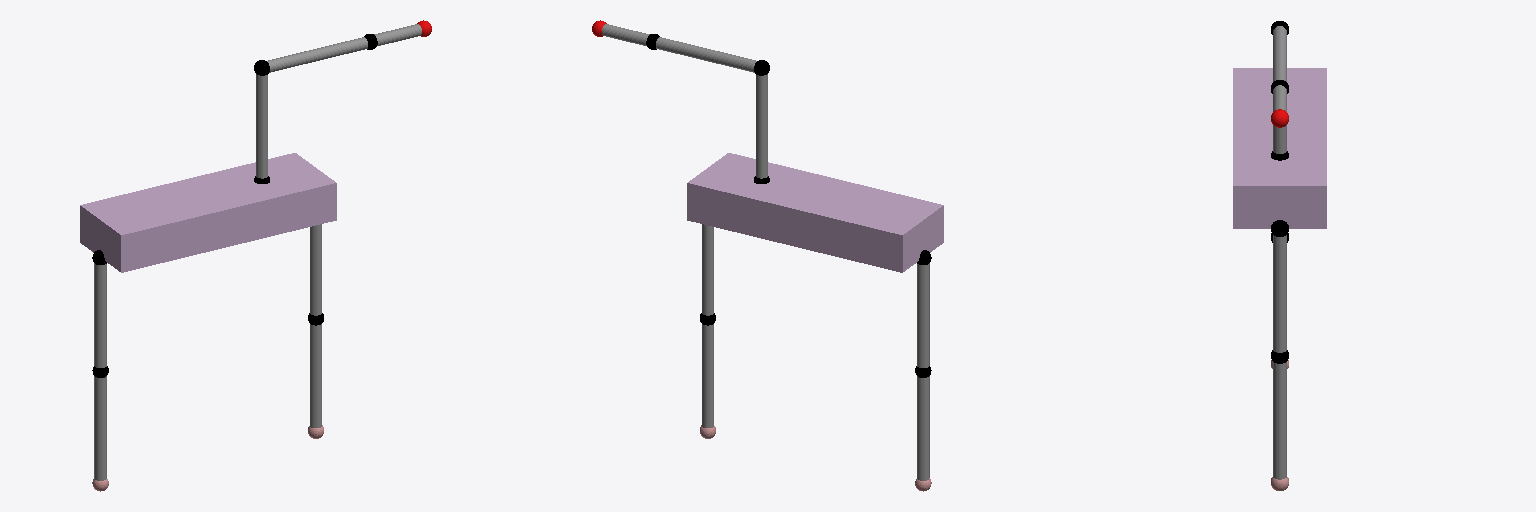
URDF robot description (SimpleANYmal):
<?xml version="1.0"?>

  <!-- ============================================================
       LeggedRobotModel
       
       Numerical parameters taken from:
       mparams = [
         9.81  0.1  0.6  0.3  0.3  0.15 0.3 0.3 0.3 0.3
         10.0  0.5  0.5  0.1  0.5  0.5 0.5 0.5
         0.02 0.02 0.015 0.015 0.015 0.02 0.015 0.015 0.2
       ]

       Coordinate system:
         X = forward/backward
         Y = joint axis / lateral direction
         Z = vertical

       All revolute joints:
         axis = Y = [0 1 0]
       ============================================================ -->
<robot name="SimpleANYmal">

  <link name="world"/>

  <!-- ============================================================
       BASE
       
       l_B = 0.60
       w_B = 0.20
       h_B = 0.10
       m_B = 10.0
       
       Cuboid inertia:
         Ixx = m/12 (w^2 + h^2)
         Iyy = m/12 (l^2 + h^2)
         Izz = m/12 (l^2 + w^2)
       ============================================================ -->
  <link name="base">

    <inertial>
      <origin xyz="0 0 0" rpy="0 0 0"/>
      <mass value="10.0"/>
      <inertia ixx="0.0416666667" ixy="0" ixz="0" iyy="0.3083333333" iyz="0" izz="0.3333333333"/>
    </inertial>

    <visual>
      <origin xyz="0 0 0" rpy="0 0 0"/>
      <geometry>
        <box size="0.60 0.20 0.10"/>
      </geometry>

      <material name="base_color">
        <color rgba="0.773 0.675 0.792 1.0"/>
      </material>
    </visual>

    <collision>
      <origin xyz="0 0 0" rpy="0 0 0"/>
      <geometry>
        <box size="0.60 0.20 0.10"/>
      </geometry>
    </collision>

  </link>


    <!--============================================================
        FLOATING BASE: X, Z TRANSLATION + Y ROTATION
        Represents:
          x_B
          z_B
          theta_B
        ============================================================ -->
    <!-- Intermediate links for floating base -->
    <link name="base_x_link"/>
    <link name="base_z_link"/>

    <!-- Translation along X -->
    <joint name="base_x_joint" type="prismatic">
        <parent link="world"/>
        <child link="base_x_link"/>
        <origin xyz="0 0 0" rpy="0 0 0"/>
        <axis xyz="1 0 0"/>
        <limit lower="-5.0" upper="5.0" effort="1000" velocity="5.0"/>
    </joint>

    <!-- Translation along Z -->
    <joint name="base_z_joint" type="prismatic">
        <parent link="base_x_link"/>
        <child link="base_z_link"/>
        <origin xyz="0 0 0" rpy="0 0 0"/>
        <axis xyz="0 0 1"/>
        <limit lower="-5.0" upper="5.0" effort="1000" velocity="5.0"/>
    </joint>

    <!-- Rotation around Y -->
    <joint name="base_pitch_joint" type="revolute">
        <parent link="base_z_link"/>
        <child link="base"/>
        <origin xyz="0 0 0" rpy="0 0 0"/>
        <axis xyz="0 1 0"/>
        <limit lower="-3.14159265" upper="3.14159265" effort="1000" velocity="10.0"/>
    </joint>

  <!-- ============================================================
       HIND / REAR THIGH
              
       l_RT = 0.30
       r_RT = 0.015
       m_RT = 0.50
       ============================================================ -->

  <link name="hind_thigh">

    <inertial>
      <origin xyz="0 0 -0.15" rpy="0 0 0"/>
      <mass value="0.50"/>
      <inertia ixx="0.00188203125" ixy="0" ixz="0" iyy="0.00188203125" iyz="0" izz="0.00005625"/>
    </inertial>

    <visual>
      <origin xyz="0 0 0.15" rpy="0 0 0"/>
      <geometry>
        <cylinder radius="0.015" length="0.30"/>
      </geometry>

      <material name="leg_color">
        <color rgba="0.60 0.60 0.60 1.0"/>
      </material>
    </visual>

    <visual>
        <origin xyz="0 0 0" rpy="0 0 0"/>
        <geometry>
            <sphere radius="0.02"/>
        </geometry>
        <material name="joint_color">
            <color rgba="0.0 0.0 0.0 1.0"/>
        </material>
    </visual>

    <collision>
      <origin xyz="0 0 0.15" rpy="0 0 0"/>
      <geometry>
        <cylinder radius="0.015" length="0.30"/>
      </geometry>
    </collision>

  </link>


  <joint name="hind_hip" type="revolute">

    <parent link="base"/>
    <child link="hind_thigh"/>
    <origin xyz="-0.30 0 -0.05" rpy="0 3.141592 0"/>
    <axis xyz="0 1 0"/>
    <limit effort="100" velocity="10" lower="-3.14159265" upper="3.14159265"/>

  </joint>

  <!-- ============================================================
       HIND / REAR SHANK
              
       l_RS = 0.30
       r_RS = 0.015
       m_RS = 0.50
       ============================================================ -->
  <link name="hind_shank">

    <inertial>
      <origin xyz="0 0 -0.15" rpy="0 0 0"/>
      <mass value="0.50"/>
      <inertia ixx="0.00188203125" ixy="0" ixz="0" iyy="0.00188203125" iyz="0" izz="0.00005625"/>
    </inertial>

    <visual>
      <origin xyz="0 0 0.15" rpy="0 0 0"/>
      <geometry>
        <cylinder radius="0.015" length="0.30"/>
      </geometry>

      <material name="leg_color"/>
    </visual>

    <visual>
        <origin xyz="0 0 0" rpy="0 0 0"/>
        <geometry>
            <sphere radius="0.02"/>
        </geometry>
        <material name="joint_color"/>
    </visual>

    <collision>
      <origin xyz="0 0 0.15" rpy="0 0 0"/>
      <geometry>
        <cylinder radius="0.015" length="0.30"/>
      </geometry>
    </collision>

  </link>


  <joint name="hind_knee" type="revolute">

    <parent link="hind_thigh"/>
    <child link="hind_shank"/>
    <origin xyz="0 0 0.30" rpy="0 0 0"/>
    <axis xyz="0 1 0"/>
    <limit effort="100" velocity="10" lower="-3.14159265" upper="3.14159265"/>

  </joint>


  <!-- ============================================================
       HIND FOOT
       
       r_RF = 0.020
       
       Foot is massless in original model because no mass
       parameter is provided for it.
       ============================================================ -->
  <link name="hind_foot">

    <inertial>
      <origin xyz="0 0 0" rpy="0 0 0"/>
      <mass value="0.000001"/>
      <inertia ixx="0.00000000016" ixy="0" ixz="0" iyy="0.00000000016" iyz="0" izz="0.00000000016"/>
    </inertial>

    <visual>
      <origin xyz="0 0 0" rpy="0 0 0"/>
      <geometry>
        <sphere radius="0.020"/>
      </geometry>

      <material name="foot_color">
        <color rgba="0.80 0.60 0.60 1.0"/>
      </material>
    </visual>

    <collision>
      <origin xyz="0 0 0" rpy="0 0 0"/>
      <geometry>
        <sphere radius="0.020"/>
      </geometry>
    </collision>

  </link>


  <joint name="hind_foot_joint" type="fixed">

    <parent link="hind_shank"/>
    <child link="hind_foot"/>
    <origin xyz="0 0 0.30" rpy="0 0 0"/>

  </joint>


  <!-- ============================================================
       FRONT THIGH
       
       l_FT = 0.30
       r_FT = 0.015
       m_FT = 0.50
       ============================================================ -->

  <link name="front_thigh">

    <inertial>
      <origin xyz="0 0 -0.15" rpy="0 0 0"/>
      <mass value="0.50"/>
      <inertia ixx="0.00188203125" ixy="0" ixz="0" iyy="0.00188203125" iyz="0" izz="0.00005625"/>
    </inertial>

    <visual>
      <origin xyz="0 0 0.15" rpy="0 0 0"/>
      <geometry>
        <cylinder radius="0.015" length="0.30"/>
      </geometry>
      <material name="leg_color"/>
    </visual>

    <visual>
        <origin xyz="0 0 0" rpy="0 0 0"/>
        <geometry>
            <sphere radius="0.02"/>
        </geometry>
        <material name="joint_color"/>
    </visual>

    <collision>
      <origin xyz="0 0 0.15" rpy="0 0 0"/>
      <geometry>
        <cylinder radius="0.015" length="0.30"/>
      </geometry>
    </collision>

  </link>


  <joint name="front_hip" type="revolute">

    <parent link="base"/>
    <child link="front_thigh"/>
    <origin xyz="0.30 0 -0.05" rpy="0 3.141592 0"/>
    <axis xyz="0 1 0"/>
    <limit effort="100" velocity="10" lower="-3.14159265" upper="3.14159265"/>

  </joint>


  <!-- ============================================================
       FRONT SHANK
       
       l_FS = 0.30
       r_FS = 0.015
       m_FS = 0.50
       ============================================================ -->
  <link name="front_shank">

    <inertial>
      <origin xyz="0 0 -0.15" rpy="0 0 0"/>
      <mass value="0.50"/>
      <inertia ixx="0.00188203125" ixy="0" ixz="0" iyy="0.00188203125" iyz="0" izz="0.00005625"/>
    </inertial>

    <visual>
      <origin xyz="0 0 0.15" rpy="0 0 0"/>
      <geometry>
        <cylinder radius="0.015" length="0.30"/>
      </geometry>
      <material name="leg_color"/>
    </visual>

    <visual>
        <origin xyz="0 0 0" rpy="0 0 0"/>
        <geometry>
            <sphere radius="0.02"/>
        </geometry>
        <material name="joint_color"/>
    </visual>

    <collision>
      <origin xyz="0 0 0.15" rpy="0 0 0"/>
      <geometry>
        <cylinder radius="0.015" length="0.30"/>
      </geometry>
    </collision>

  </link>


  <joint name="front_knee" type="revolute">

    <parent link="front_thigh"/>
    <child link="front_shank"/>
    <origin xyz="0 0 0.30" rpy="0 0 0"/>
    <axis xyz="0 1 0"/>
    <limit effort="100" velocity="10" lower="-3.14159265" upper="3.14159265"/>

  </joint>


  <!-- ============================================================
       FRONT FOOT
       
       r_FF = 0.020
       ============================================================ -->
  <link name="front_foot">

    <inertial>
      <origin xyz="0 0 0" rpy="0 0 0"/>
      <mass value="0.000001"/>
      <inertia ixx="0.00000000016" ixy="0" ixz="0" iyy="0.00000000016" iyz="0" izz="0.00000000016"/>
    </inertial>

    <visual>
      <origin xyz="0 0 0" rpy="0 0 0"/>
      <geometry>
        <sphere radius="0.020"/>
      </geometry>
      <material name="foot_color"/>
    </visual>

    <collision>
      <origin xyz="0 0 0" rpy="0 0 0"/>
      <geometry>
        <sphere radius="0.020"/>
      </geometry>
    </collision>

  </link>

  <joint name="front_foot_joint" type="fixed">

    <parent link="front_shank"/>
    <child link="front_foot"/>
    <origin xyz="0 0 0.30" rpy="0 0 0"/>

  </joint>


  <!-- ============================================================
       UPPER ARM
       
       l_UA = 0.30
       r_UA = 0.015
       m_UA = 0.50
       
       MATLAB CoM:
         [0 0 l_UA/2]
       ============================================================ -->
  <link name="upper_arm">

    <inertial>
      <origin xyz="0 0 0.15" rpy="0 0 0"/>
      <mass value="0.50"/>
      <inertia ixx="0.00188203125" ixy="0" ixz="0" iyy="0.00188203125" iyz="0" izz="0.00005625"/>
    </inertial>

    <visual>
      <origin xyz="0 0 -0.15" rpy="0 0 0"/>
      <geometry>
        <cylinder radius="0.015" length="0.30"/>
      </geometry>

      <material name="arm_color">
        <color rgba="0.60 0.60 0.60 1.0"/>
      </material>
    </visual>

    <visual>
        <origin xyz="0 0 0" rpy="0 0 0"/>
        <geometry>
            <sphere radius="0.02"/>
        </geometry>
        <material name="joint_color"/>
    </visual>

    <collision>
      <origin xyz="0 0 -0.15" rpy="0 0 0"/>
      <geometry>
        <cylinder radius="0.015" length="0.30"/>
      </geometry>
    </collision>

  </link>

  <joint name="shoulder" type="revolute">

    <parent link="base"/>
    <child link="upper_arm"/>
    <origin xyz="0.15 0 0.05" rpy="0 3.14159265 0"/>
    <axis xyz="0 1 0"/>
    <limit effort="100" velocity="10" lower="-3.14159265" upper="3.14159265"/>

  </joint>

  <!-- ============================================================
       LOWER ARM
       
       l_LA = 0.30
       r_LA = 0.015
       m_LA = 0.50
       ============================================================ -->
  <link name="lower_arm">

    <inertial>
      <origin xyz="0 0 0.15" rpy="0 0 0"/>
      <mass value="0.50"/>
      <inertia ixx="0.00188203125" ixy="0" ixz="0" iyy="0.00188203125" iyz="0" izz="0.00005625"/>
    </inertial>

    <visual>
      <origin xyz="0 0 -0.15" rpy="0 0 0"/>
      <geometry>
        <cylinder radius="0.015" length="0.30"/>
      </geometry>
      <material name="arm_color"/>
    </visual>

    <visual>
        <origin xyz="0 0 0" rpy="0 0 0"/>
        <geometry>
            <sphere radius="0.02"/>
        </geometry>
        <material name="joint_color"/>
    </visual>

    <collision>
      <origin xyz="0 0 -0.15" rpy="0 0 0"/>
      <geometry>
        <cylinder radius="0.015" length="0.30"/>
      </geometry>
    </collision>

  </link>


  <joint name="elbow" type="revolute">

    <parent link="upper_arm"/>
    <child link="lower_arm"/>
    <origin xyz="0 0 -0.30" rpy="0 1.570796 0"/>
    <axis xyz="0 1 0"/>
    <limit effort="100" velocity="10" lower="-3.14159265" upper="3.14159265"/>

  </joint>

  
  <!-- ============================================================
       HAND
       
       l_HA = 0.15
       r_HA = 0.015
       m_HA = 0.10
       ============================================================ -->

  <link name="hand">

    <inertial>
      <origin xyz="0 0 0.075" rpy="0 0 0"/>
      <mass value="0.10"/>
      <inertia ixx="0.00018796875" ixy="0" ixz="0" iyy="0.00018796875" iyz="0" izz="0.00001125"/>
    </inertial>

    <visual>
      <origin xyz="0 0 -0.075" rpy="0 0 0"/>
      <geometry>
        <cylinder radius="0.015" length="0.15"/>
      </geometry>
      <material name="arm_color"/>
    </visual>

    <visual>
        <origin xyz="0 0 0" rpy="0 0 0"/>
        <geometry>
            <sphere radius="0.02"/>
        </geometry>
        <material name="joint_color"/>
    </visual>

    <collision>
      <origin xyz="0 0 -0.075" rpy="0 0 0"/>
      <geometry>
        <cylinder radius="0.015" length="0.15"/>
      </geometry>
    </collision>

  </link>


  <joint name="wrist" type="revolute">
    <parent link="lower_arm"/>
    <child link="hand"/>
    <origin xyz="0 0 -0.30" rpy="0 0 0"/>
    <axis xyz="0 1 0"/>
    <limit effort="100" velocity="10" lower="-3.14159265" upper="3.14159265"/>
  </joint>


  <!-- ============================================================
       END EFFECTOR
       
       r_EE = 0.020
       
       No mass parameter exists in mparams, so it is effectively
       treated as massless.
       ============================================================ -->
  <link name="end_effector">

    <inertial>
      <origin xyz="0 0 0" rpy="0 0 0"/>
      <mass value="0.000001"/>
      <inertia ixx="0.00000000016" ixy="0" ixz="0" iyy="0.00000000016" iyz="0" izz="0.00000000016"/>
    </inertial>

    <visual>
      <origin xyz="0 0 0" rpy="0 0 0"/>
      <geometry>
        <sphere radius="0.020"/>
      </geometry>
      <material name="ee_color">
        <color rgba="0.90 0.10 0.10 1.0"/>
      </material>
    </visual>

    <collision>
      <origin xyz="0 0 0" rpy="0 0 0"/>
      <geometry>
        <sphere radius="0.020"/>
      </geometry>
    </collision>

  </link>


  <joint name="end_effector_joint" type="fixed">
    <parent link="hand"/>
    <child link="end_effector"/>
    <origin xyz="0 0 -0.15" rpy="0 0 0"/>
  </joint>

</robot>

--- Facts derived from the render (not from the file) ---
Views: 3 orthographic renders of the robot side by side, from view 1: azimuth 30°, elevation 25°; view 2: azimuth 150°, elevation 25°; view 3: azimuth 270°, elevation 25°.
Robot: SimpleANYmal — 14 links, 13 joints (8 revolute, 2 prismatic, 3 fixed); root link world; default pose: all joints at 0.
Links seen in each view (by area): view 1: base, hind_thigh, hind_shank, lower_arm, front_shank, upper_arm, front_thigh, hand; view 2: base, hind_thigh, hind_shank, lower_arm, front_shank, upper_arm, front_thigh, hand; view 3: base, front_thigh, front_shank, lower_arm.
Link boxes in pixels (bbox=[...]): base: bbox=[80, 153, 336, 272]; hind_thigh: bbox=[92, 250, 106, 367]; hind_shank: bbox=[92, 366, 108, 480]; lower_arm: bbox=[254, 37, 367, 75]; front_shank: bbox=[308, 313, 323, 427]; upper_arm: bbox=[254, 74, 269, 183]; front_thigh: bbox=[310, 224, 321, 315]; hand: bbox=[364, 24, 421, 49]; base: bbox=[687, 153, 943, 272]; hind_thigh: bbox=[917, 250, 931, 367]; hind_shank: bbox=[915, 366, 931, 480]; lower_arm: bbox=[656, 37, 769, 75]; front_shank: bbox=[700, 313, 715, 427]; upper_arm: bbox=[754, 74, 769, 183]; front_thigh: bbox=[702, 224, 713, 315]; hand: bbox=[602, 24, 659, 49]; base: bbox=[1233, 68, 1326, 228]; front_thigh: bbox=[1271, 220, 1288, 352]; front_shank: bbox=[1271, 350, 1288, 479]; lower_arm: bbox=[1271, 21, 1288, 81].
Size in the robot's own frame: 0.94 by 0.2 by 1.04 metres.
Geometry: primitives only (box / cylinder / sphere), no mesh files.
